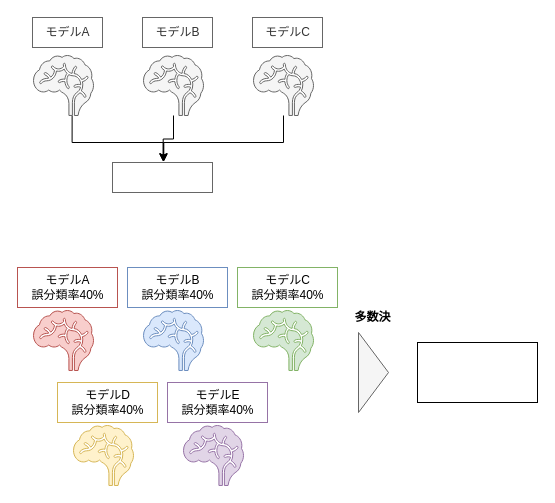
This 555x503 diagram has some shape labels left out. Each missing label, with the box of its shape:
最終的な結果: (112, 162, 212, 192)
誤分類率:???: (416, 342, 538, 402)
